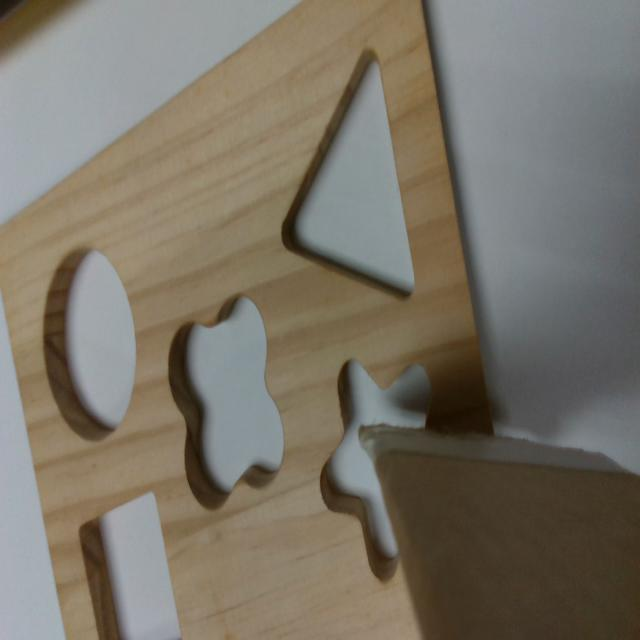circle: (44, 246, 137, 445)
flower: (168, 295, 286, 512)
square: (78, 486, 182, 638)
star: (322, 362, 430, 580)
triangle: (283, 45, 417, 301)
